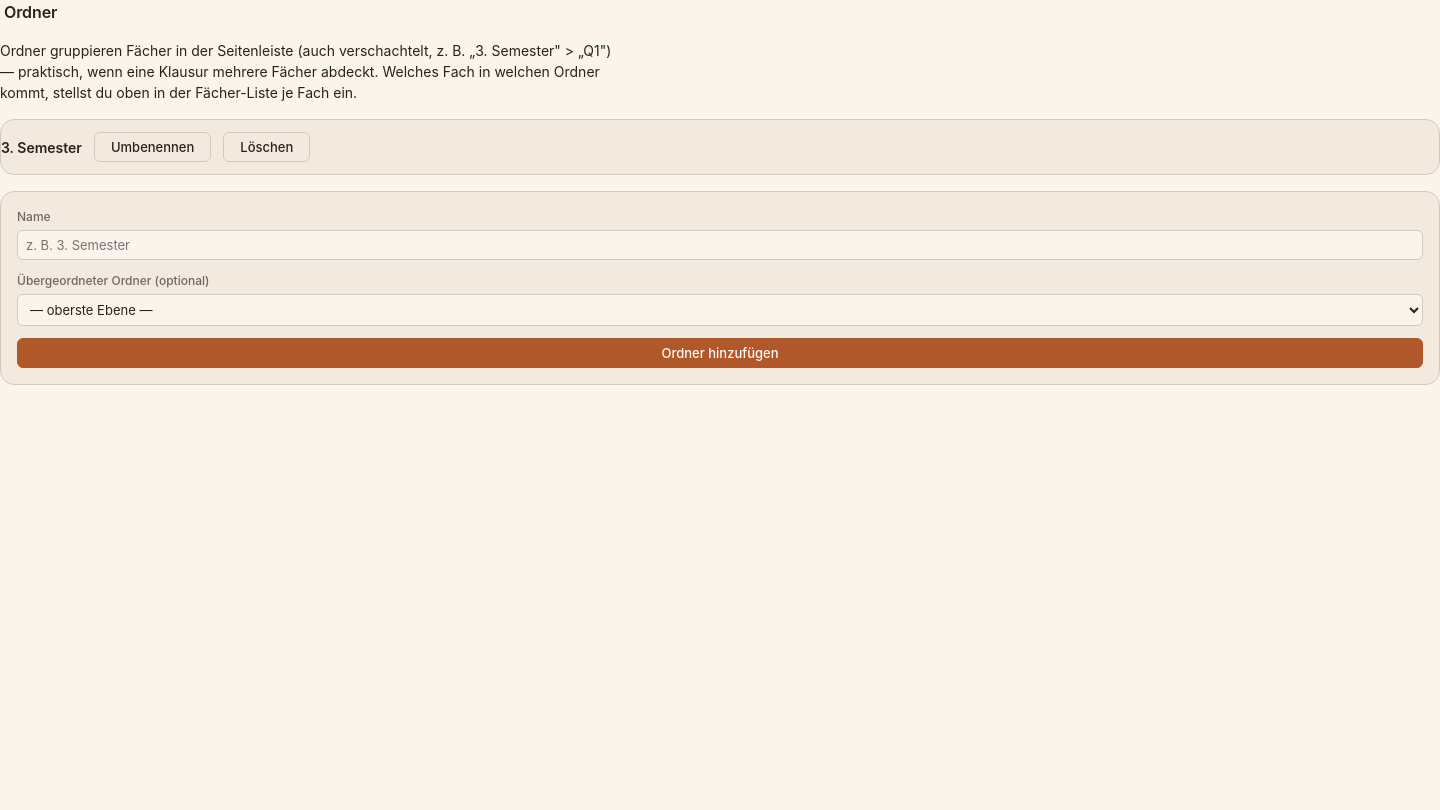
Scenario: CourseGroups › löscht einen Ordner nicht, wenn der Dialog abgebrochen wird
The image size is (1440, 810).
Click the button named "Ordner \"3. Semester\" löschen" at coordinates (267, 147), box [223,132,310,162]
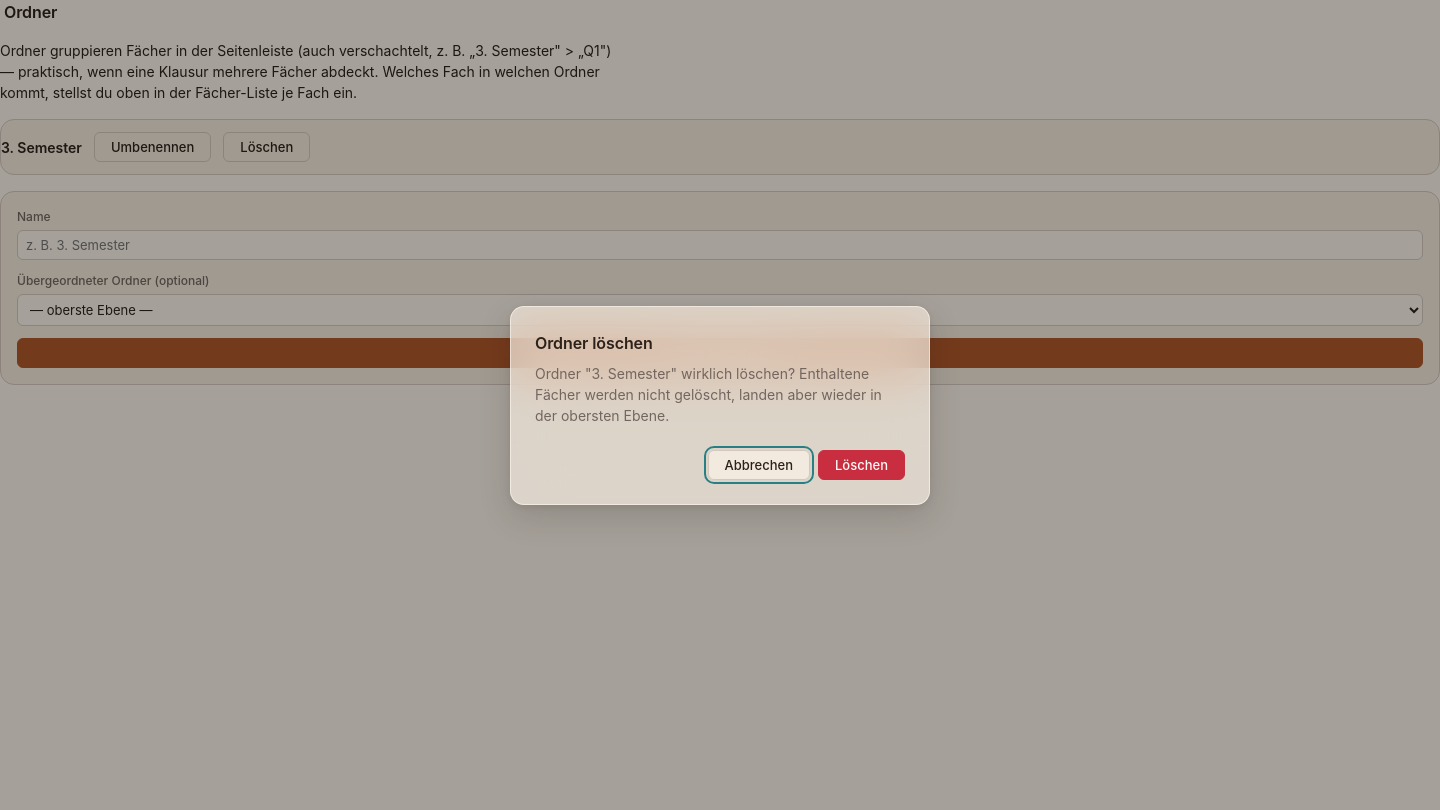
Click the button "Abbrechen" at coordinates (759, 464), box [708,450,810,480]
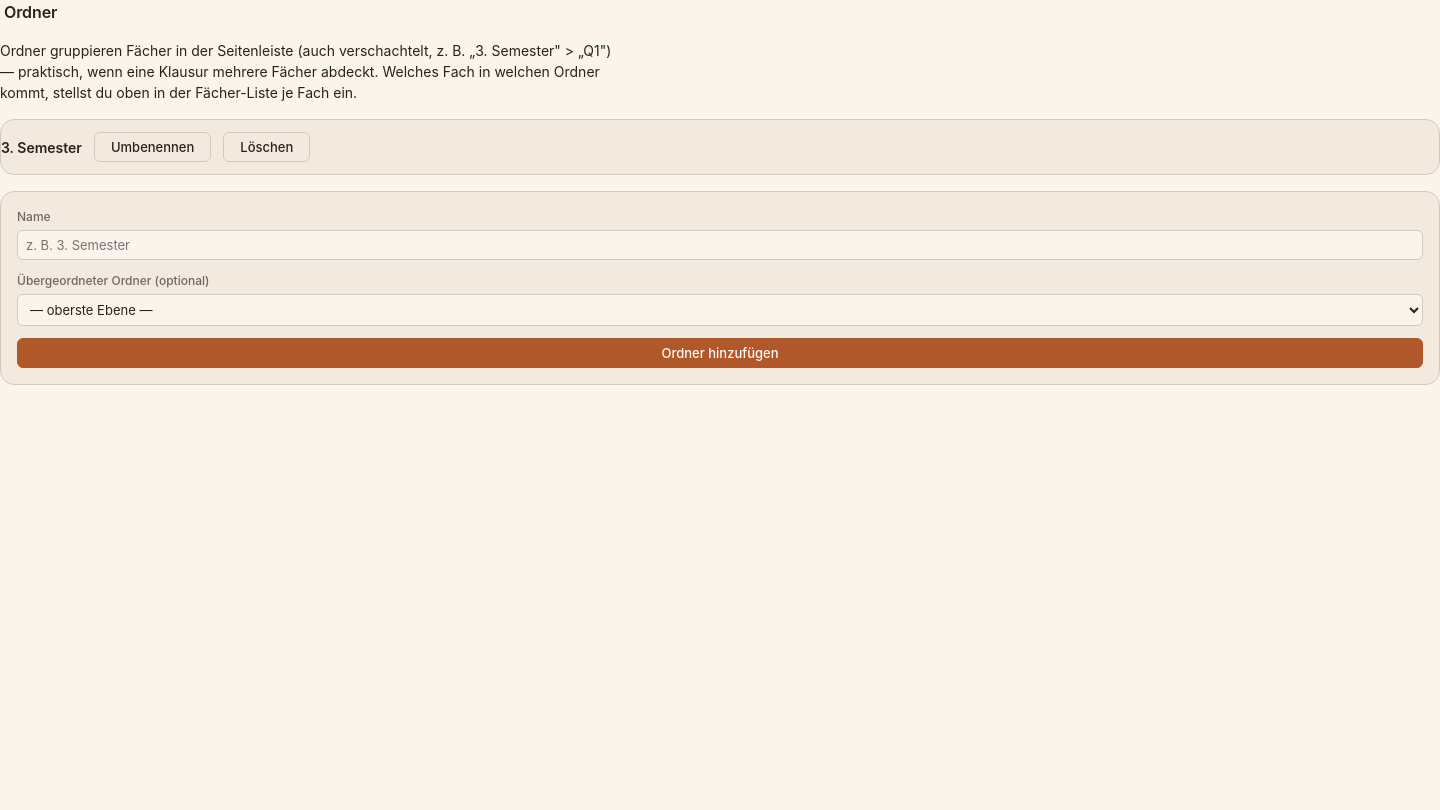
Result: the dialog is gone
